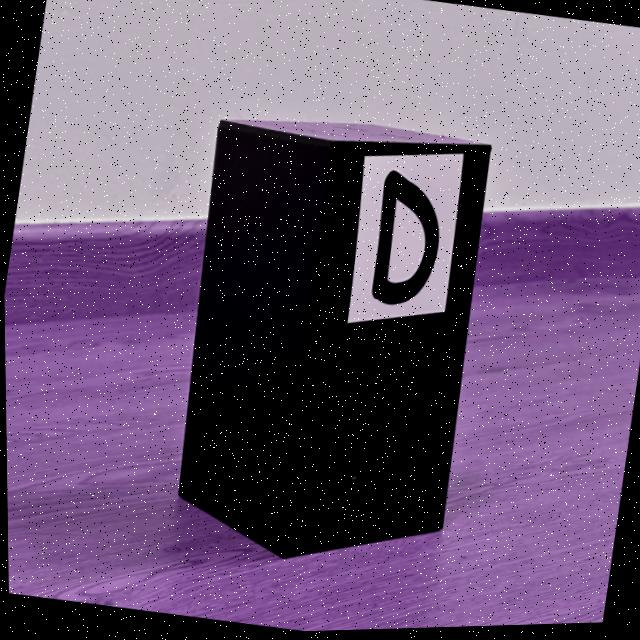D: (371, 173, 439, 307)
